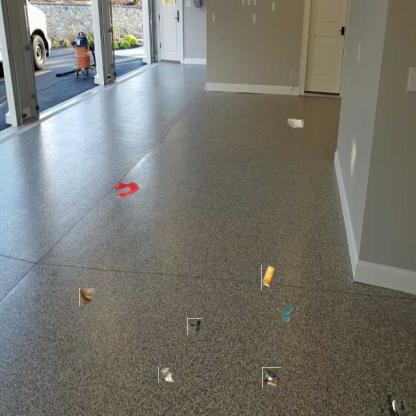dirty: (380, 395, 404, 416), (262, 368, 282, 388), (261, 264, 276, 290), (79, 289, 97, 306), (158, 366, 176, 383), (187, 318, 202, 335), (286, 116, 304, 128)
liquid: (114, 181, 140, 201), (278, 303, 297, 321)
